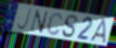2: (76, 16, 94, 43)
A: (89, 19, 106, 44)
C: (46, 11, 64, 37)
J: (16, 7, 33, 31)
N: (29, 9, 49, 34)
S: (61, 14, 80, 39)
